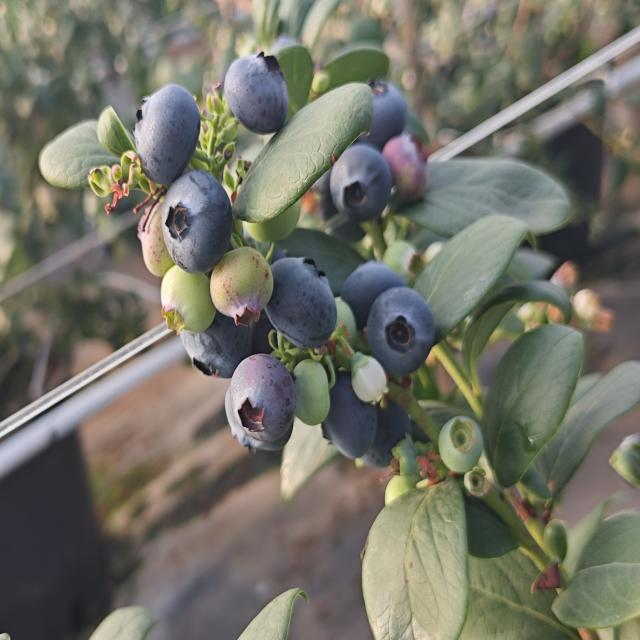ripe: (266, 238, 341, 353), (159, 168, 234, 275), (131, 81, 202, 188), (224, 351, 298, 453), (364, 284, 436, 378), (222, 50, 290, 136), (329, 370, 379, 464), (362, 393, 418, 474), (184, 318, 253, 383), (332, 141, 384, 212), (362, 80, 413, 136)
